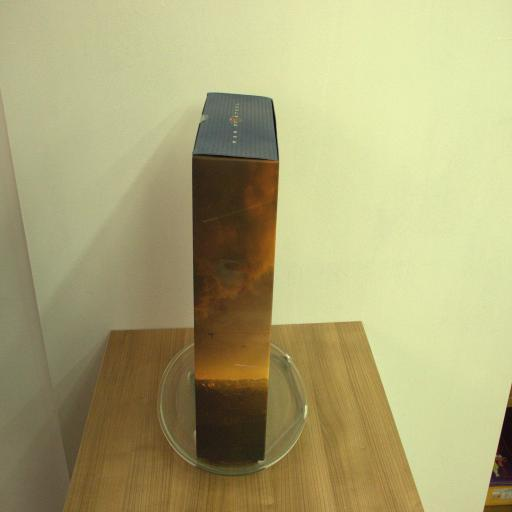superman: (192, 92, 278, 460)
